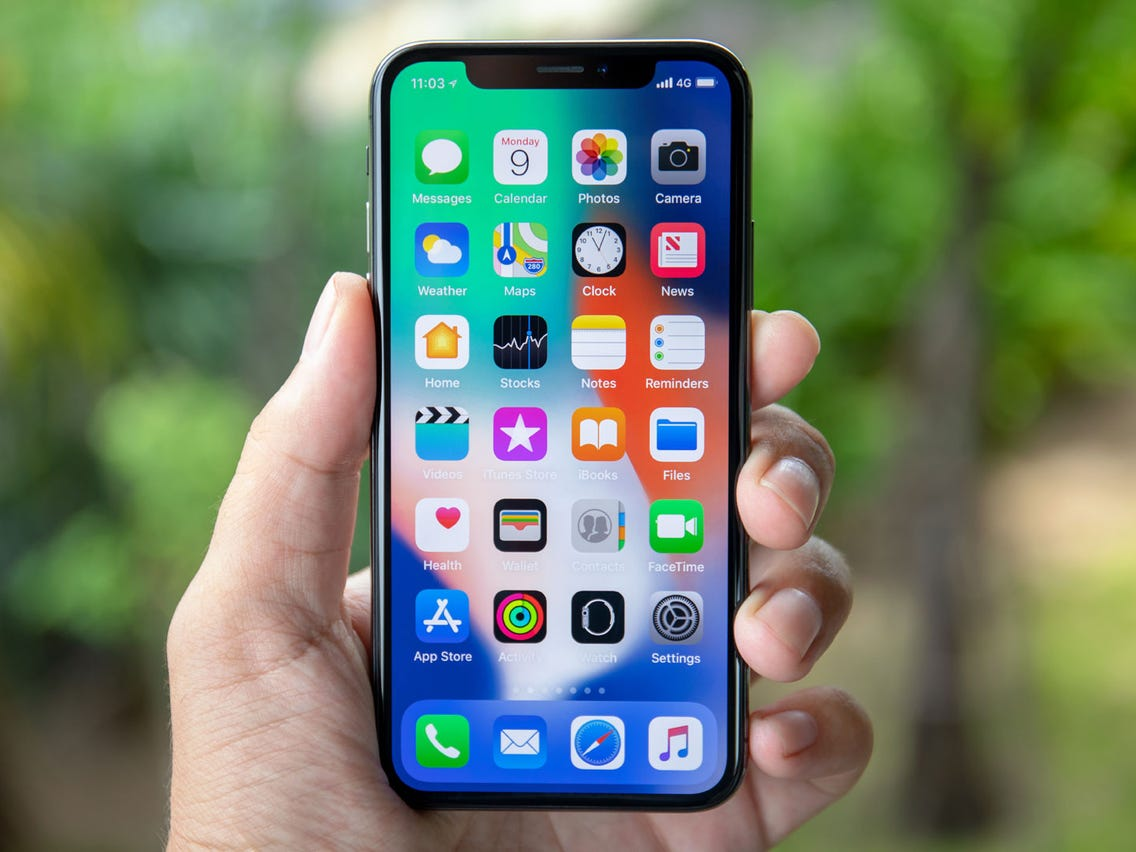Cell Phone: (362, 35, 752, 797)
